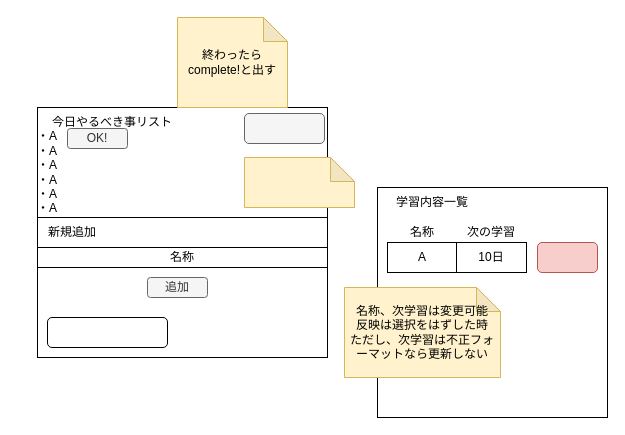
This 625x435 diagram has some shape labels left out. Here are the shapes that lost their labels. From the top down, the centre of each, then its label:
At point (284, 128): "update".
At point (299, 182): "スクロール可能 フレーム".
At point (567, 257): "remove".
At point (107, 332): "学習内容一覧を開く".
